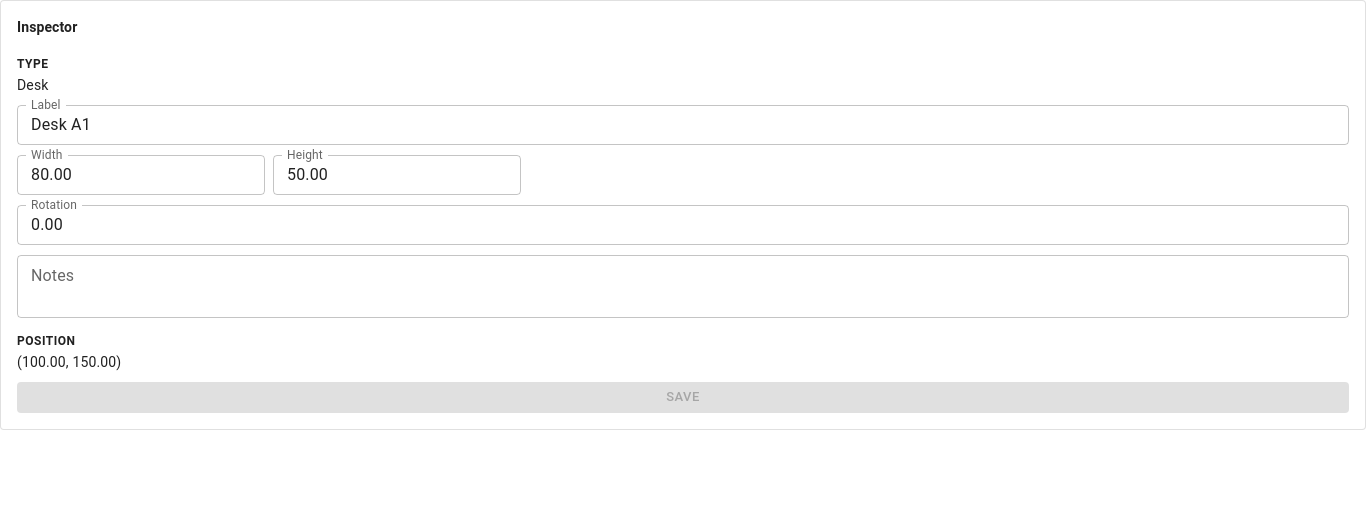
LayoutObjectInspector › disables Save and warns on an invalid size
Replace the text in the number field labelled "Width" with "0": (141, 175) 17,155 -> 265,195
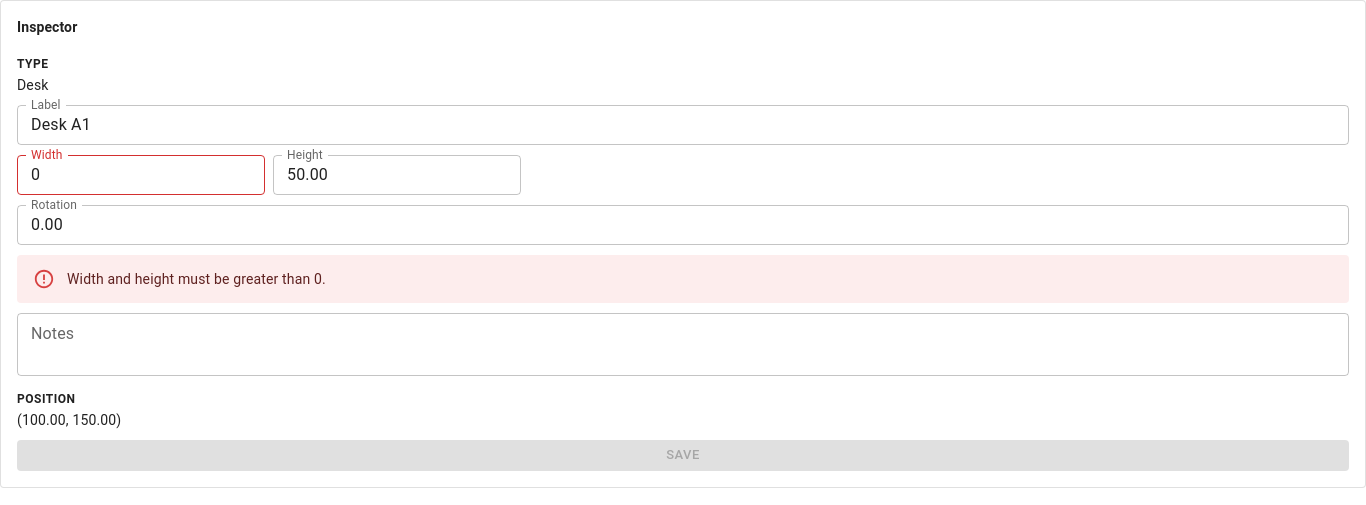
Expected: the button "Save" is disabled, 17,440 -> 1349,471
Result: the text "Width and height must be greater than 0." is shown at 67,271 -> 326,287
